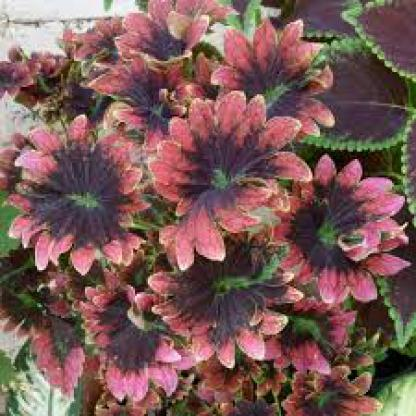Bunga Coleus: (51, 40, 352, 378)
